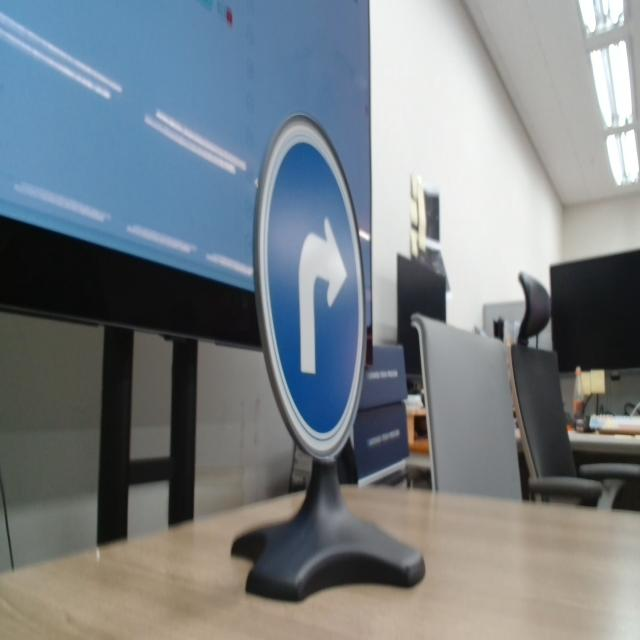right_dierection: (252, 94, 370, 472)
